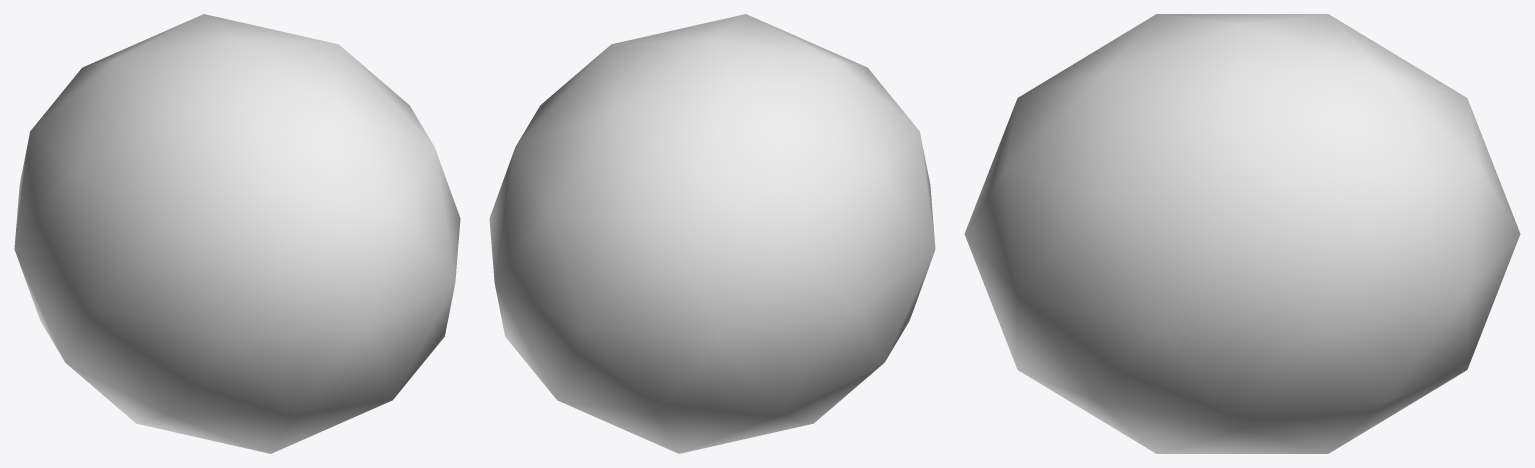
The model's file is Wool.fbx.
The picture shows the model from 3 angles, left to right: view 1: azimuth 30°, elevation 25°; view 2: azimuth 150°, elevation 25°; view 3: azimuth 270°, elevation 25°; orthographic projection. The views are drawn at different scales.
Visible parts, largest first — view 1: runo; view 2: runo; view 3: runo.
Boxes of the visible parts, <box> form: runo: <box>14,14,460,453</box>; runo: <box>489,14,935,453</box>; runo: <box>964,14,1520,453</box>.
Size of the model in its own units: 160 by 162 by 197.
1 material, 1 textured.
